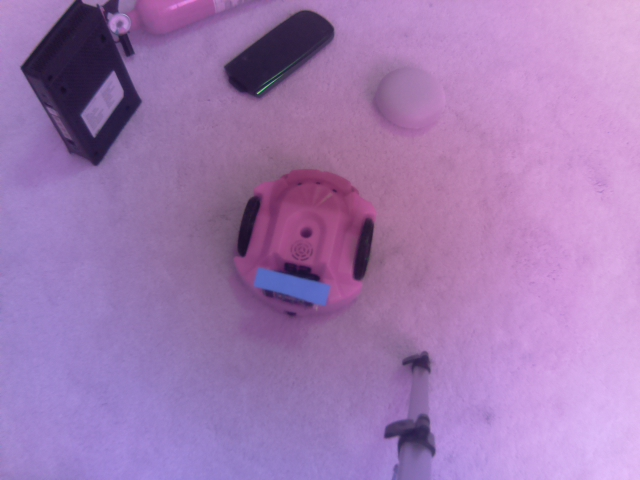board: (249, 263, 333, 316)
chassis: (230, 160, 379, 327)
